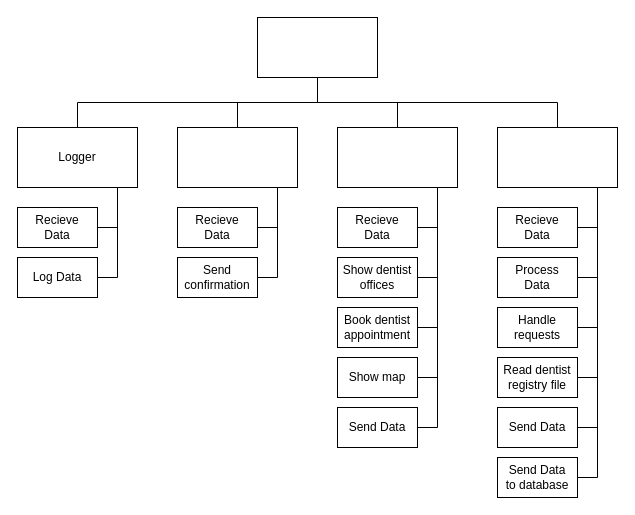
This 635x515 diagram has some shape labels left out. Each missing label, with the centre of its shape:
Backend: (557,157)
Dentistimo: (317,47)
Notifier: (237,157)
UI: (397,157)
